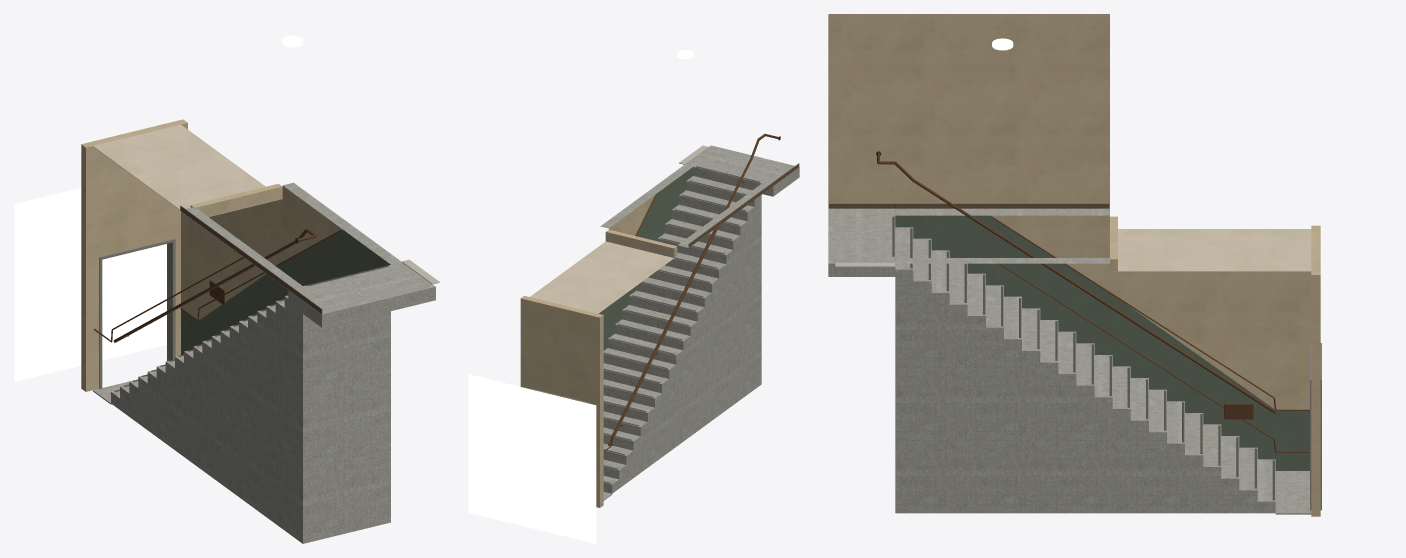
File: tongxian_stair.glb
The picture shows the model from 3 angles, left to right: view 1: azimuth 30°, elevation 25°; view 2: azimuth 150°, elevation 25°; view 3: azimuth 270°, elevation 25°; orthographic projection. The views are drawn at different scales.
Parts seen in each view (by area): view 1: txs_step, txs_wall, txs_street, txs_ceil, txs_dado, txs_vcm, txs_walnut; view 2: txs_step, txs_street, txs_wall, txs_ceil, txs_vcm, txs_dado, txs_walnut; view 3: txs_wall, txs_step, txs_dado, txs_ceil, txs_vcm, txs_walnut.
Boxes of the visible parts, left/top/right/bottom form: txs_step: left=93, top=182, right=435, bottom=543; txs_wall: left=81, top=119, right=342, bottom=391; txs_street: left=14, top=188, right=166, bottom=381; txs_ceil: left=93, top=124, right=282, bottom=216; txs_dado: left=181, top=230, right=390, bottom=354; txs_vcm: left=99, top=205, right=439, bottom=391; txs_walnut: left=93, top=228, right=342, bottom=342; txs_step: left=600, top=145, right=799, bottom=500; txs_street: left=468, top=374, right=596, bottom=543; txs_wall: left=520, top=194, right=677, bottom=507; txs_ceil: left=530, top=241, right=676, bottom=313; txs_vcm: left=530, top=136, right=799, bottom=483; txs_dado: left=599, top=167, right=693, bottom=350; txs_walnut: left=603, top=133, right=778, bottom=451; txs_wall: left=828, top=14, right=1320, bottom=516; txs_step: left=828, top=208, right=1311, bottom=514; txs_dado: left=895, top=215, right=1309, bottom=470; txs_ceil: left=1110, top=229, right=1311, bottom=271; txs_vcm: left=829, top=151, right=1321, bottom=510; txs_walnut: left=877, top=152, right=1309, bottom=452.
Bounding box in the file's own units: 2.8 × 7.6 × 8.4.
8 materials, 5 textured.
